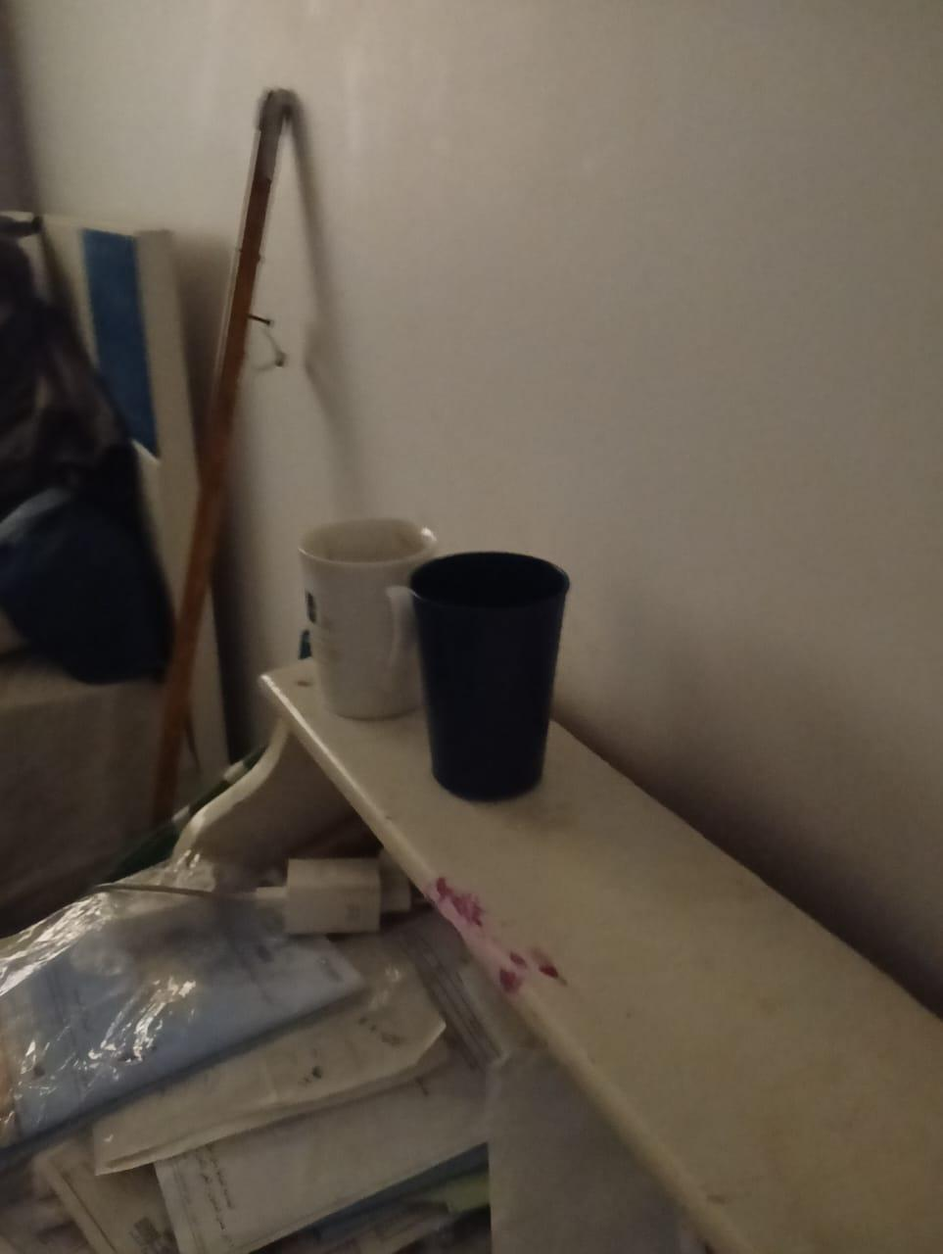cup: (409, 552, 568, 799), (300, 518, 435, 718)
